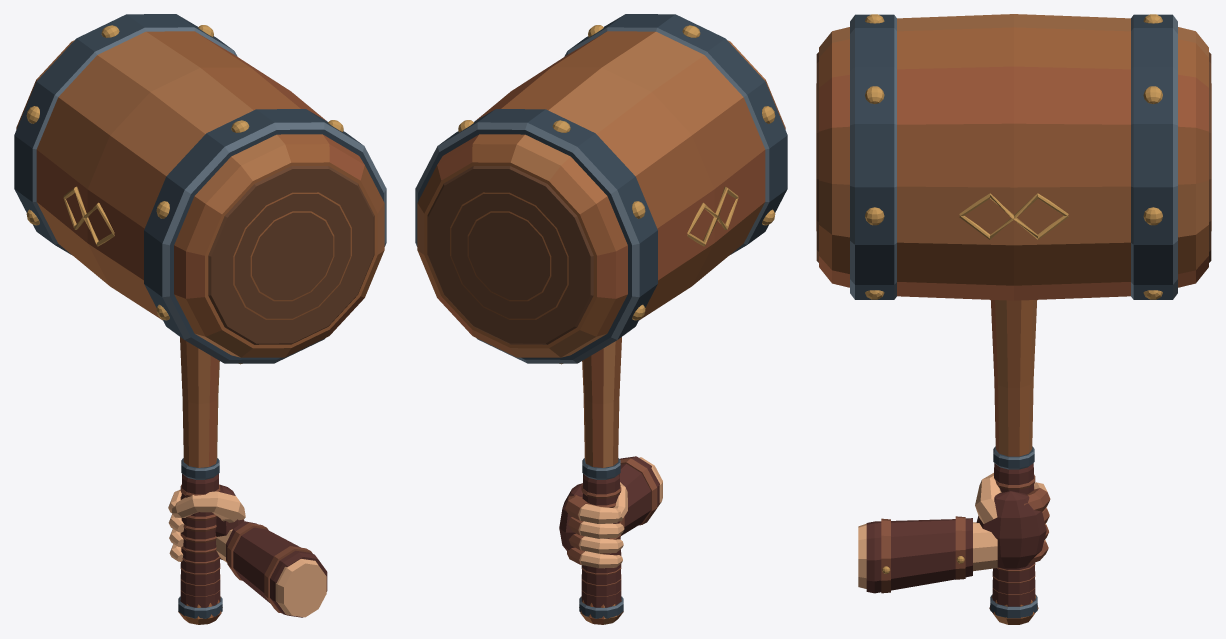
The model's file is StormMallet_R.fbx.
3 views of the same model, side by side, from view 1: azimuth 30°, elevation 25°; view 2: azimuth 150°, elevation 25°; view 3: azimuth 270°, elevation 25° (orthographic). The views are drawn at different scales.
Visible parts, largest first — view 1: StormMallet_Mesh, RightHand_Mesh; view 2: StormMallet_Mesh, RightHand_Mesh; view 3: StormMallet_Mesh, RightHand_Mesh.
Part boxes in pixels (<box>): StormMallet_Mesh: <box>14,14,386,624</box>; RightHand_Mesh: <box>168,484,327,617</box>; StormMallet_Mesh: <box>415,14,787,624</box>; RightHand_Mesh: <box>559,456,662,568</box>; StormMallet_Mesh: <box>816,14,1211,624</box>; RightHand_Mesh: <box>858,473,1050,593</box>.
Size of the model in its own units: 0.3561 by 0.795 by 0.483.
